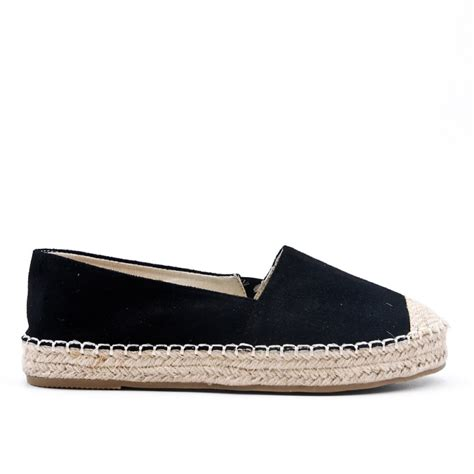gamuza: (26, 245, 409, 344)
